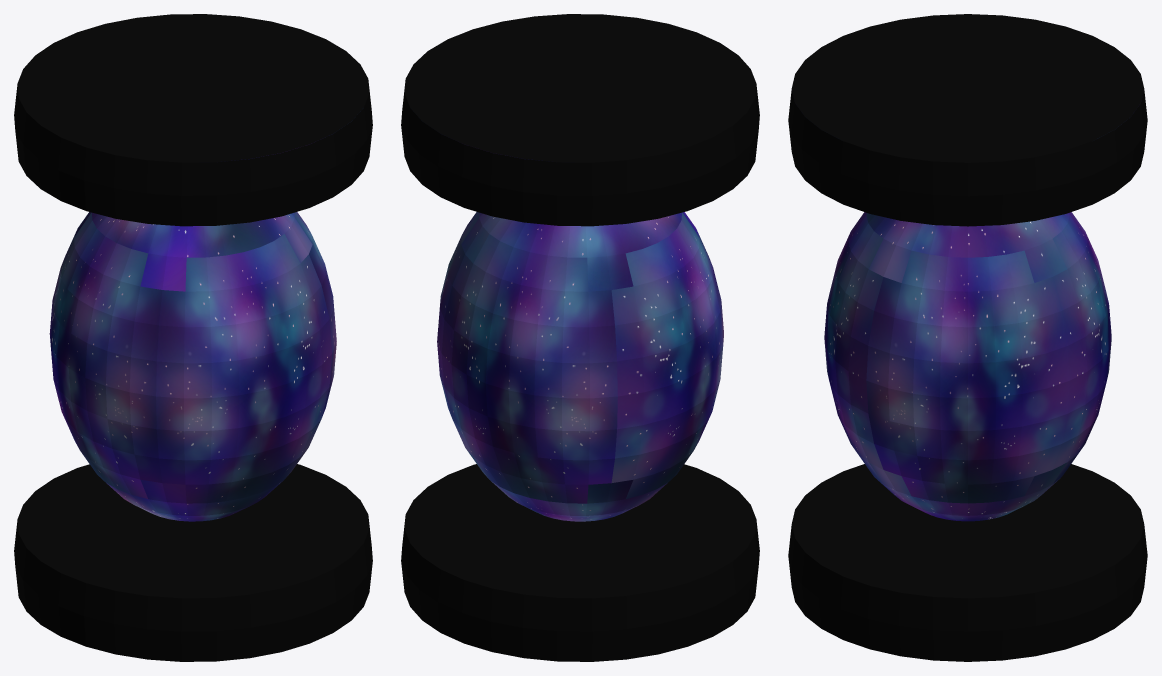
File: activePortal.obj
3 views of the same model, side by side, from view 1: azimuth 30°, elevation 25°; view 2: azimuth 150°, elevation 25°; view 3: azimuth 270°, elevation 25° (orthographic).
Parts seen in each view (by area): view 1: PortalColor_Torus, Sphere; view 2: PortalColor_Torus, Sphere; view 3: PortalColor_Torus, Sphere.
Boxes of the visible parts, box(x1,y1,x2,y2) form: PortalColor_Torus: box(14, 14, 372, 661); Sphere: box(49, 212, 336, 521); PortalColor_Torus: box(401, 14, 759, 661); Sphere: box(437, 212, 723, 521); PortalColor_Torus: box(788, 14, 1147, 661); Sphere: box(824, 212, 1111, 521).
Bounding box in the file's own units: 3 × 4.6 × 3.
